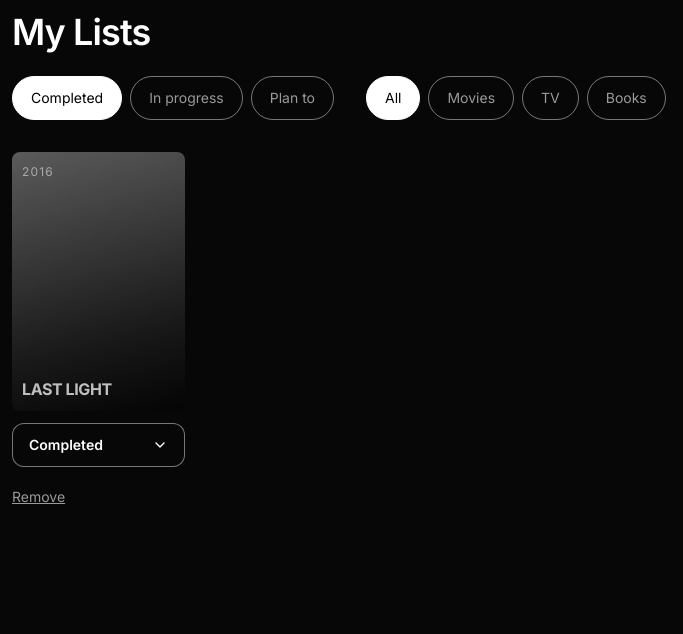
MyLists late responses › a move that fails after switching tab does not show its error in the new view
Check: the link "2016 Last Light" is shown, box [12,152,185,411]
Click the dropdown: (98, 445) [12,423,185,467]
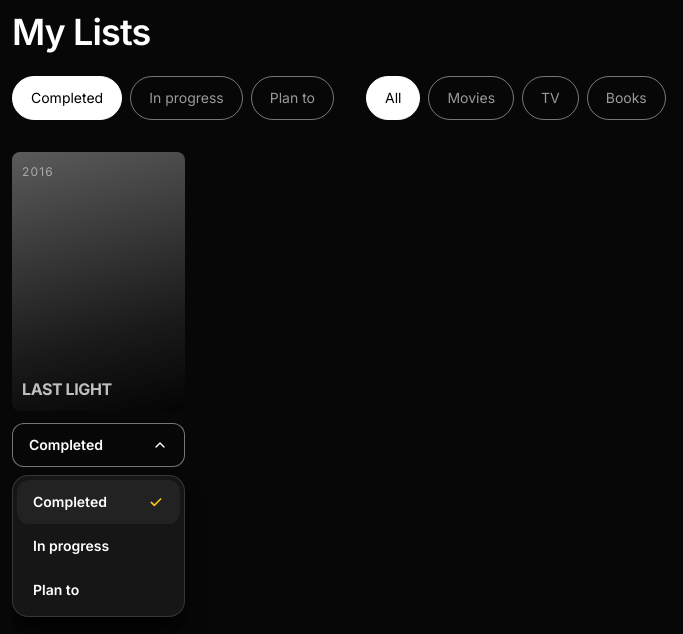
Click the option "In progress": (71, 546) [33,537,109,554]
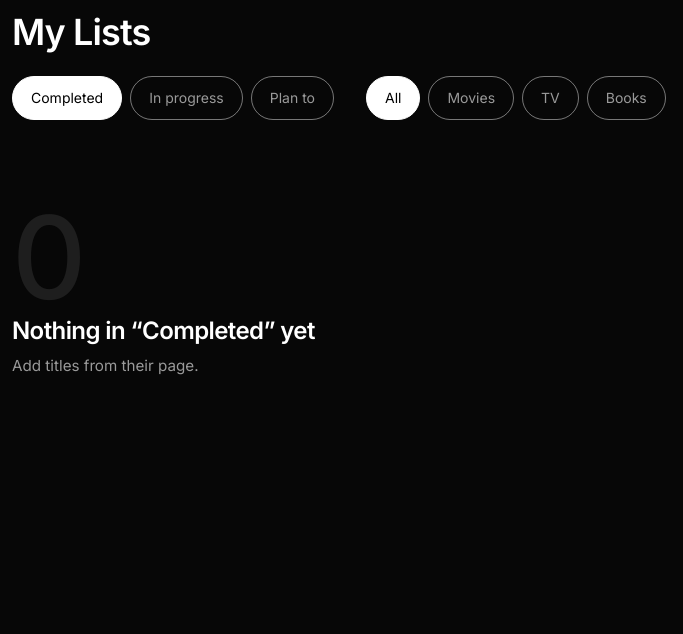
Click the button "Plan to": (292, 98) [251,76,334,120]
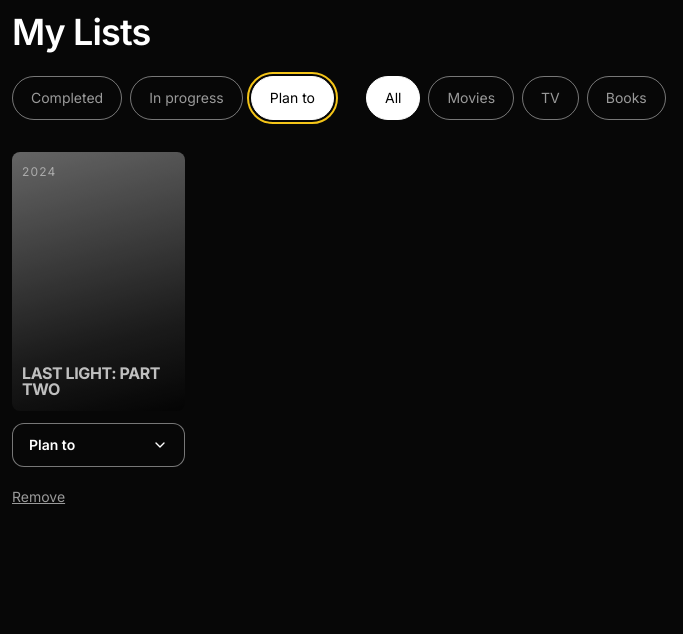
Check: the dropdown named "Status for " is shown, box [12,423,185,467]
